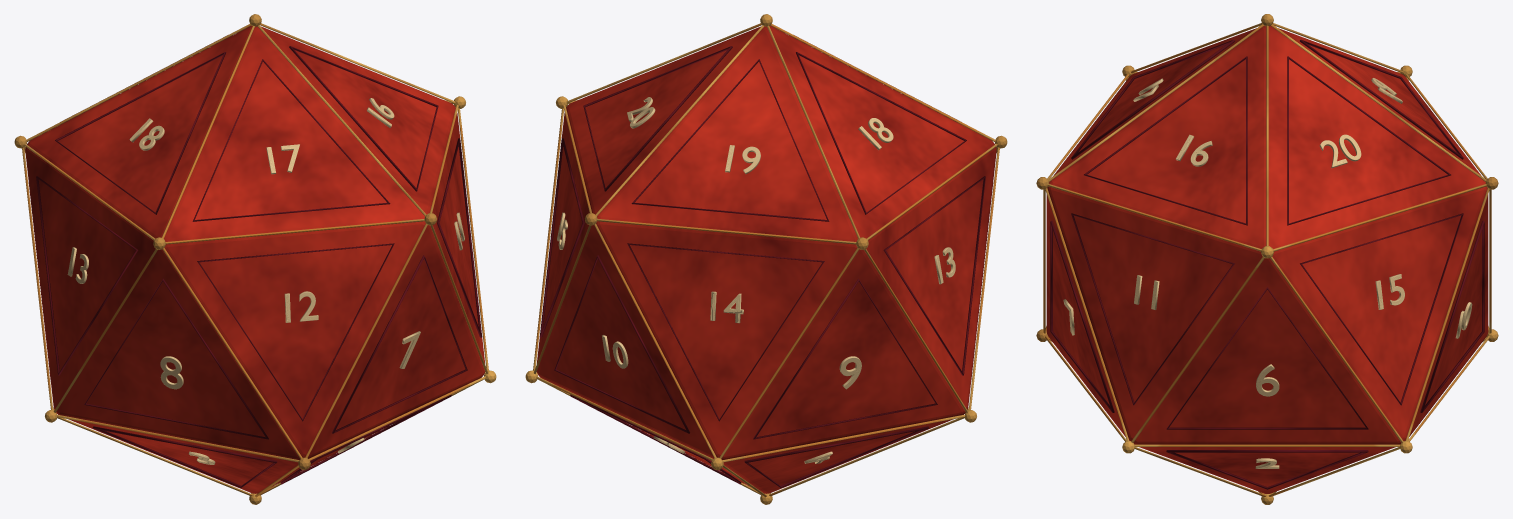
The model's file is D20_二十面骰_朱砂鎏金_baked.glb.
The picture shows the model from 3 angles, left to right: view 1: azimuth 30°, elevation 25°; view 2: azimuth 150°, elevation 25°; view 3: azimuth 270°, elevation 25°; orthographic projection.
Visible parts, largest first — view 1: D20_Body_20_Faces, D20_Occult_Face_Borders, D20_Aged_Bronze_Edges, D20_Vertex_Studs, Face_08_Number_8; view 2: D20_Body_20_Faces, D20_Occult_Face_Borders, D20_Aged_Bronze_Edges, D20_Vertex_Studs; view 3: D20_Body_20_Faces, D20_Occult_Face_Borders, D20_Aged_Bronze_Edges, D20_Vertex_Studs, Face_20_Number_20.
Boxes of the visible parts, box(x1,y1,x2,y2) form: D20_Body_20_Faces: box(25, 26, 485, 493); D20_Occult_Face_Borders: box(28, 35, 482, 487); D20_Aged_Bronze_Edges: box(22, 23, 488, 497); D20_Vertex_Studs: box(14, 14, 496, 504); Face_08_Number_8: box(160, 356, 183, 389); D20_Body_20_Faces: box(536, 26, 996, 493); D20_Occult_Face_Borders: box(539, 35, 993, 487); D20_Aged_Bronze_Edges: box(533, 23, 999, 497); D20_Vertex_Studs: box(525, 14, 1007, 504); D20_Body_20_Faces: box(1046, 26, 1488, 493); D20_Occult_Face_Borders: box(1050, 39, 1484, 489); D20_Aged_Bronze_Edges: box(1043, 23, 1491, 496); D20_Vertex_Studs: box(1036, 14, 1498, 504); Face_20_Number_20: box(1319, 134, 1361, 168).
Bounding box in the file's own units: 5.58 × 6.23 × 5.32.
24 materials, 24 textured.
